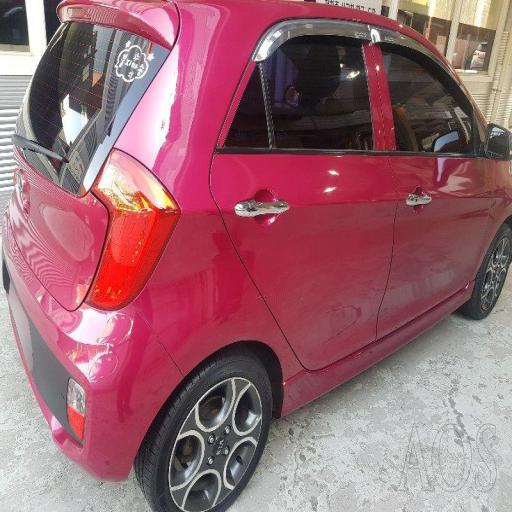scratch: (62, 298, 131, 426)
